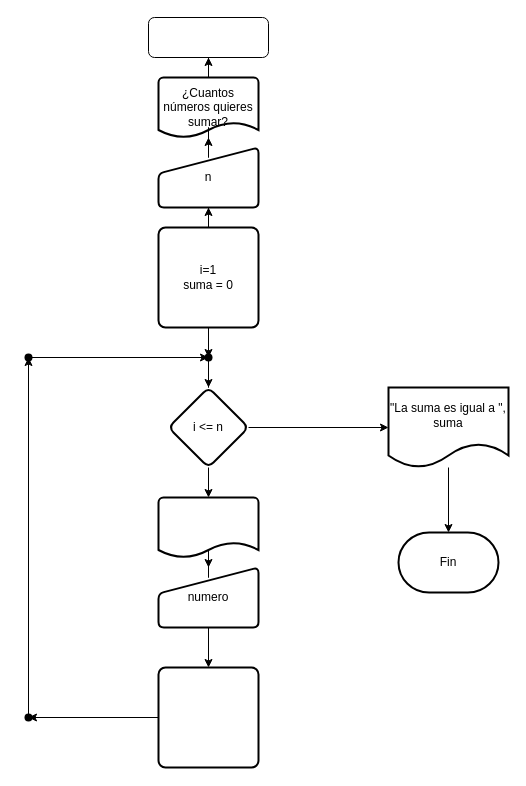
The diagram is 526 pixels wide and 786 high, and some of its shapes have lost their labels. Here are the shapes that lost their labels. From the top down, the centre of each, then its label:
At point 208,37: "Inicio".
At point 208,527: "¿Que número quieres sumar?".
At point 208,717: "suma += numero i++".
